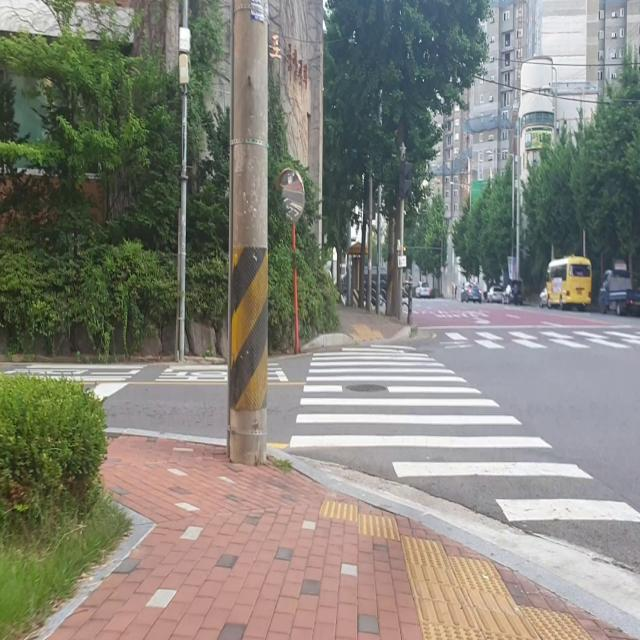횡단보도: (287, 342, 640, 525), (428, 326, 640, 354)
